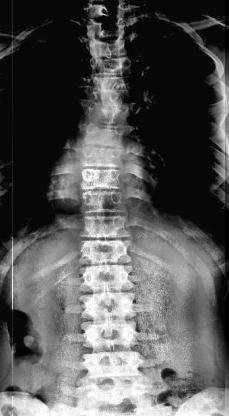Vertebrae: (75, 351, 148, 383), (80, 322, 146, 350), (75, 295, 141, 323), (76, 269, 138, 291), (78, 241, 134, 263), (87, 76, 133, 100), (80, 216, 132, 236), (82, 124, 128, 146), (85, 100, 131, 122), (80, 192, 130, 212), (82, 146, 126, 168), (81, 167, 123, 188), (84, 58, 136, 74), (84, 22, 134, 38), (85, 42, 133, 56)
